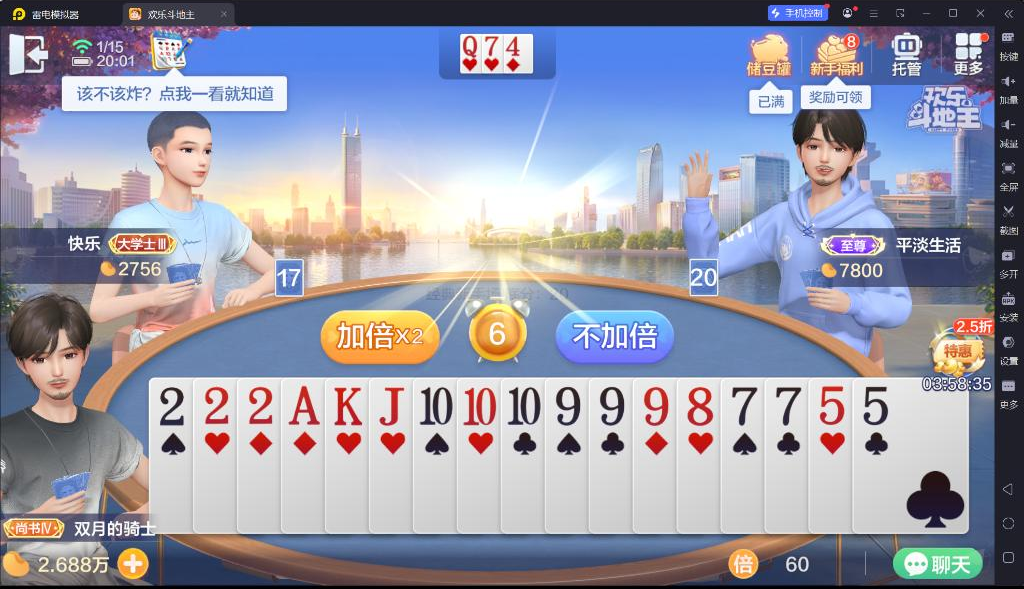A: (286, 384, 322, 428)
J: (376, 383, 406, 427)
K: (330, 383, 364, 427)
Q: (461, 35, 479, 58)
eight: (682, 385, 716, 427)
five: (815, 383, 847, 426), (860, 383, 892, 426)
four: (505, 35, 521, 59)
nine: (550, 385, 584, 428), (639, 385, 671, 427), (595, 385, 625, 428)
seven: (772, 382, 803, 428), (728, 383, 759, 427), (483, 35, 501, 59)
ten: (505, 385, 543, 428), (418, 384, 454, 428), (461, 387, 499, 428)
two: (200, 384, 234, 426), (157, 385, 189, 428), (245, 384, 277, 426)
